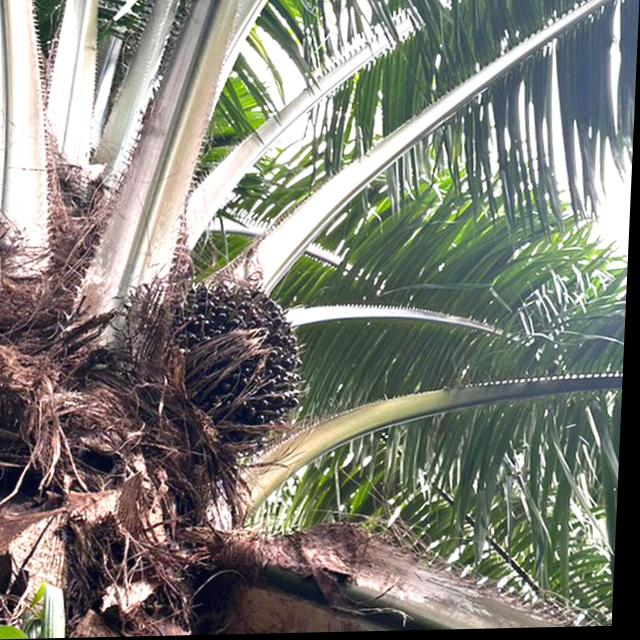unripe: (155, 270, 322, 459)
